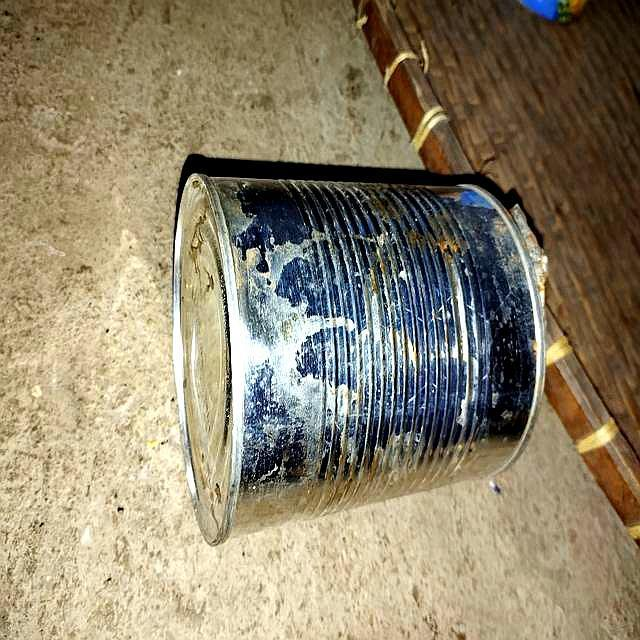Non-biodegradable: (171, 156, 552, 547)
